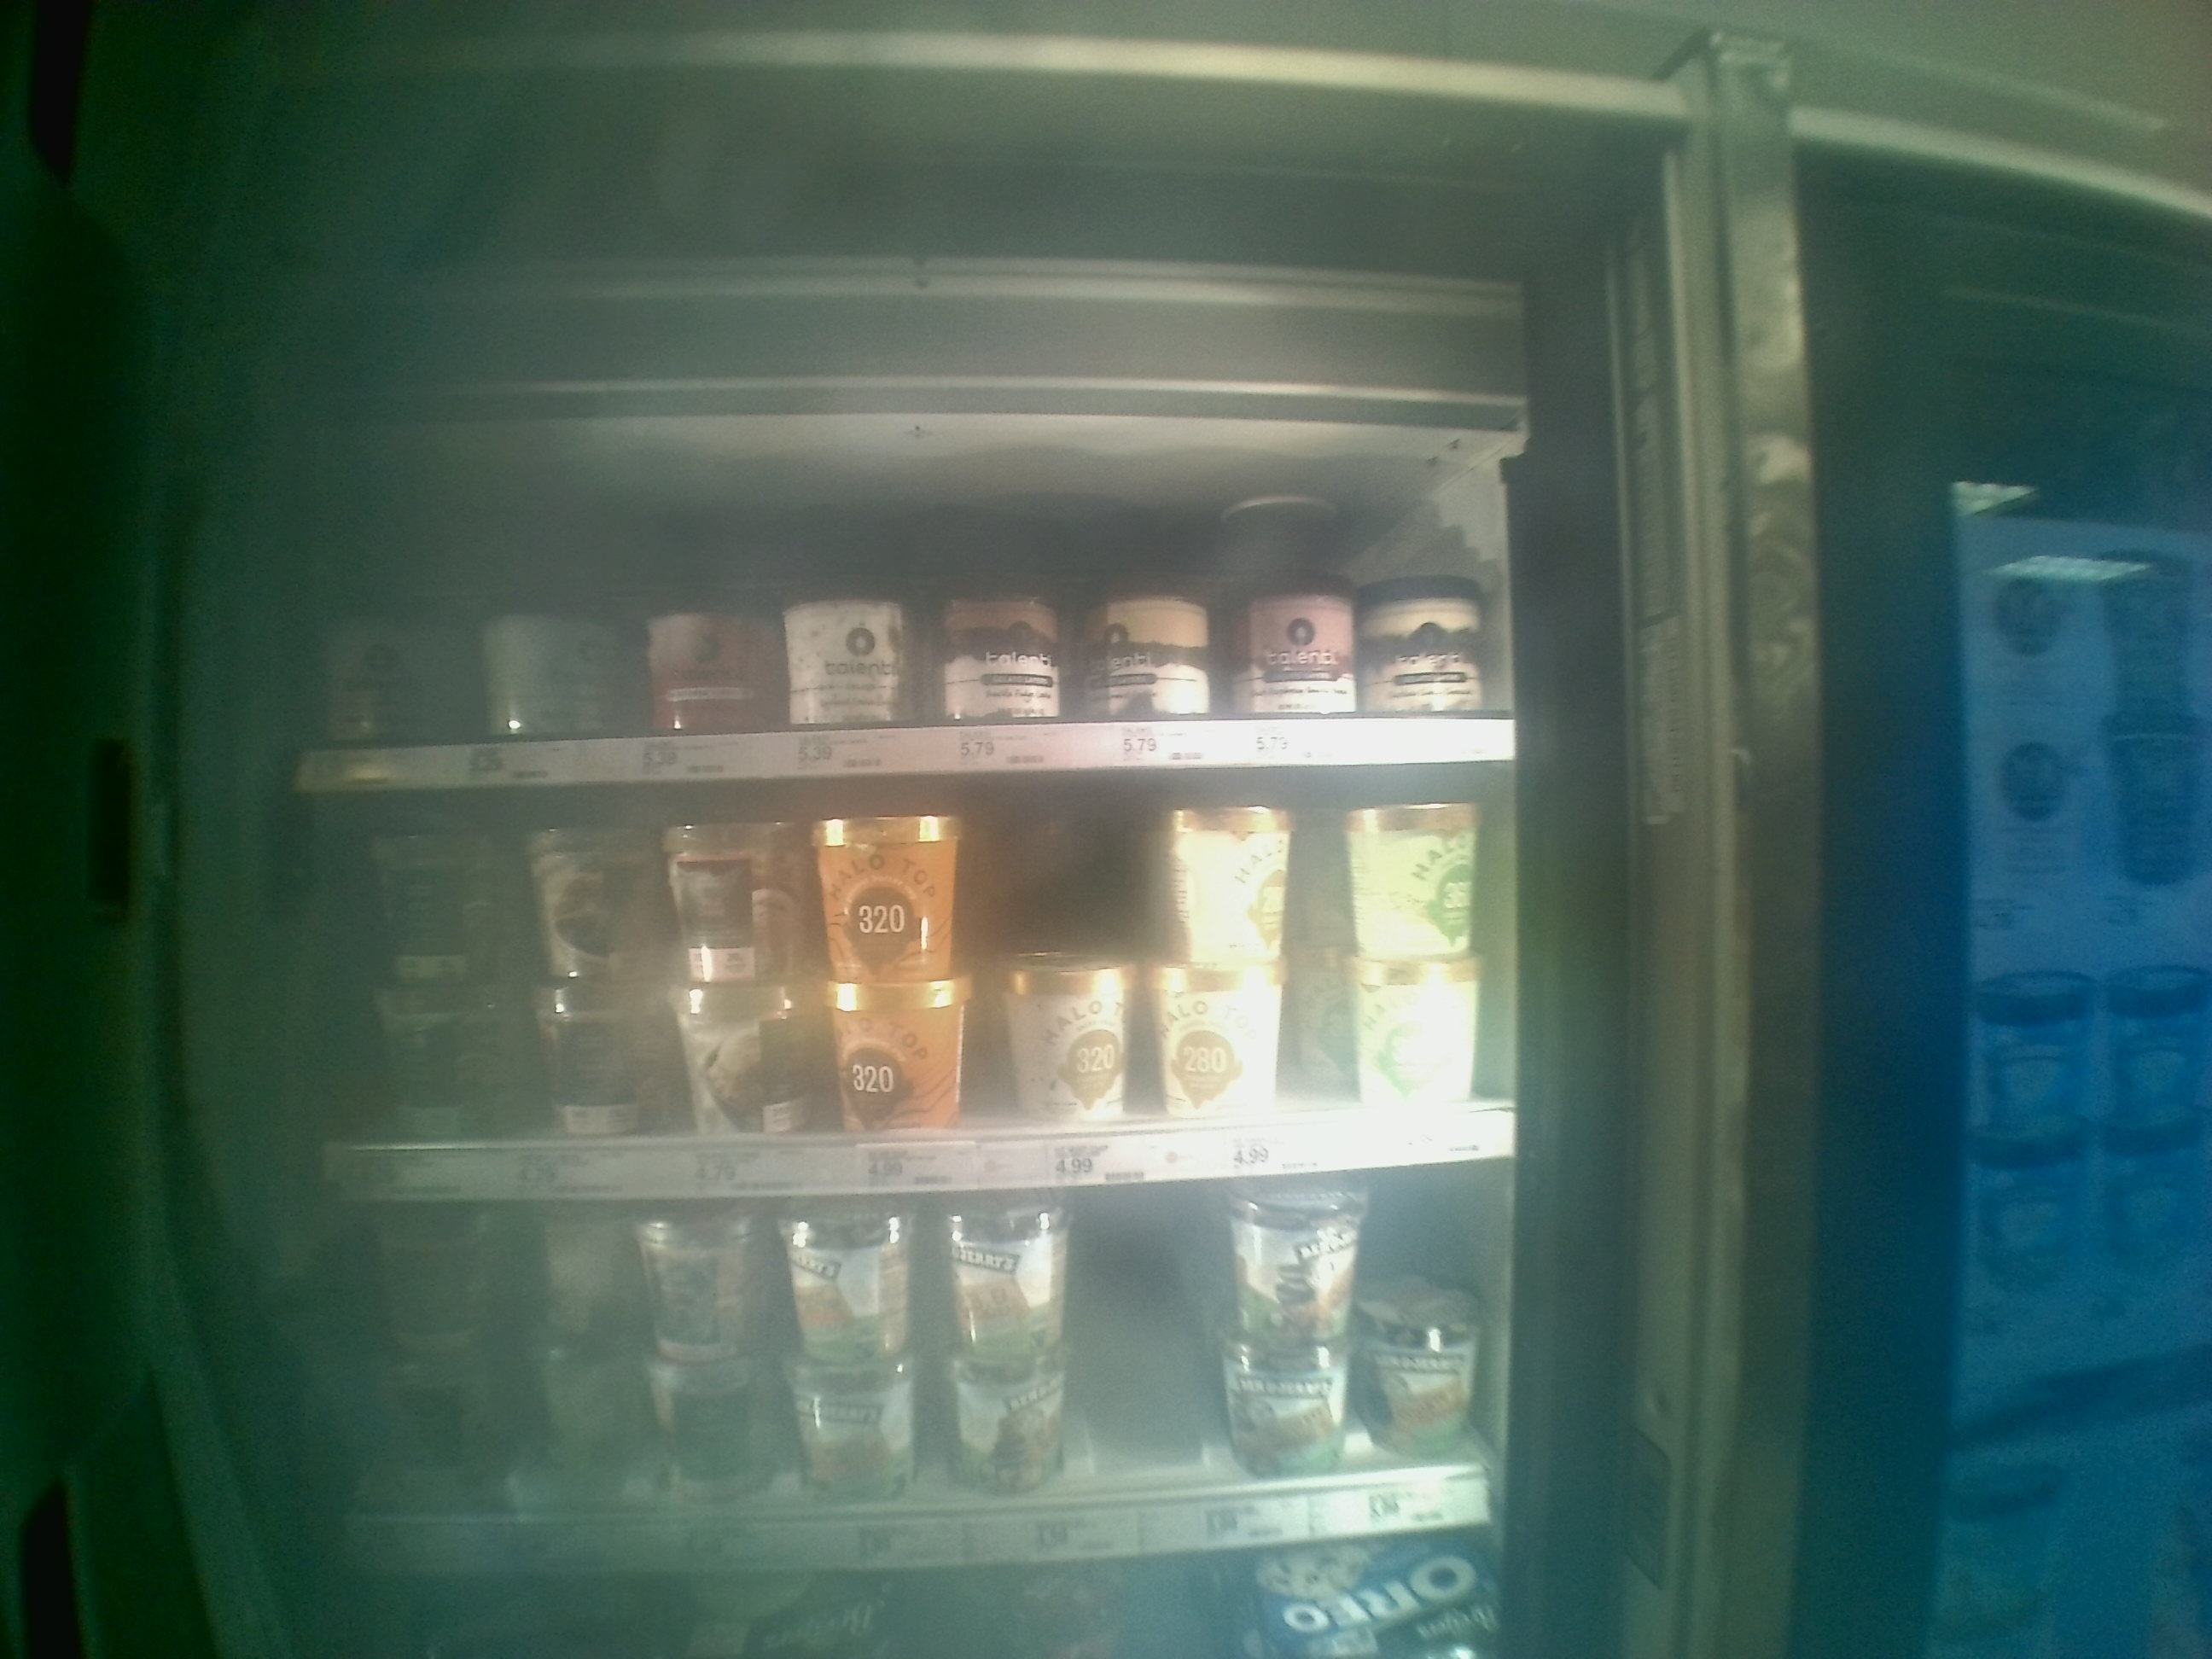ice-cream-shelf: (298, 803, 1533, 1199), (326, 1201, 1487, 1560), (289, 458, 1526, 795)
